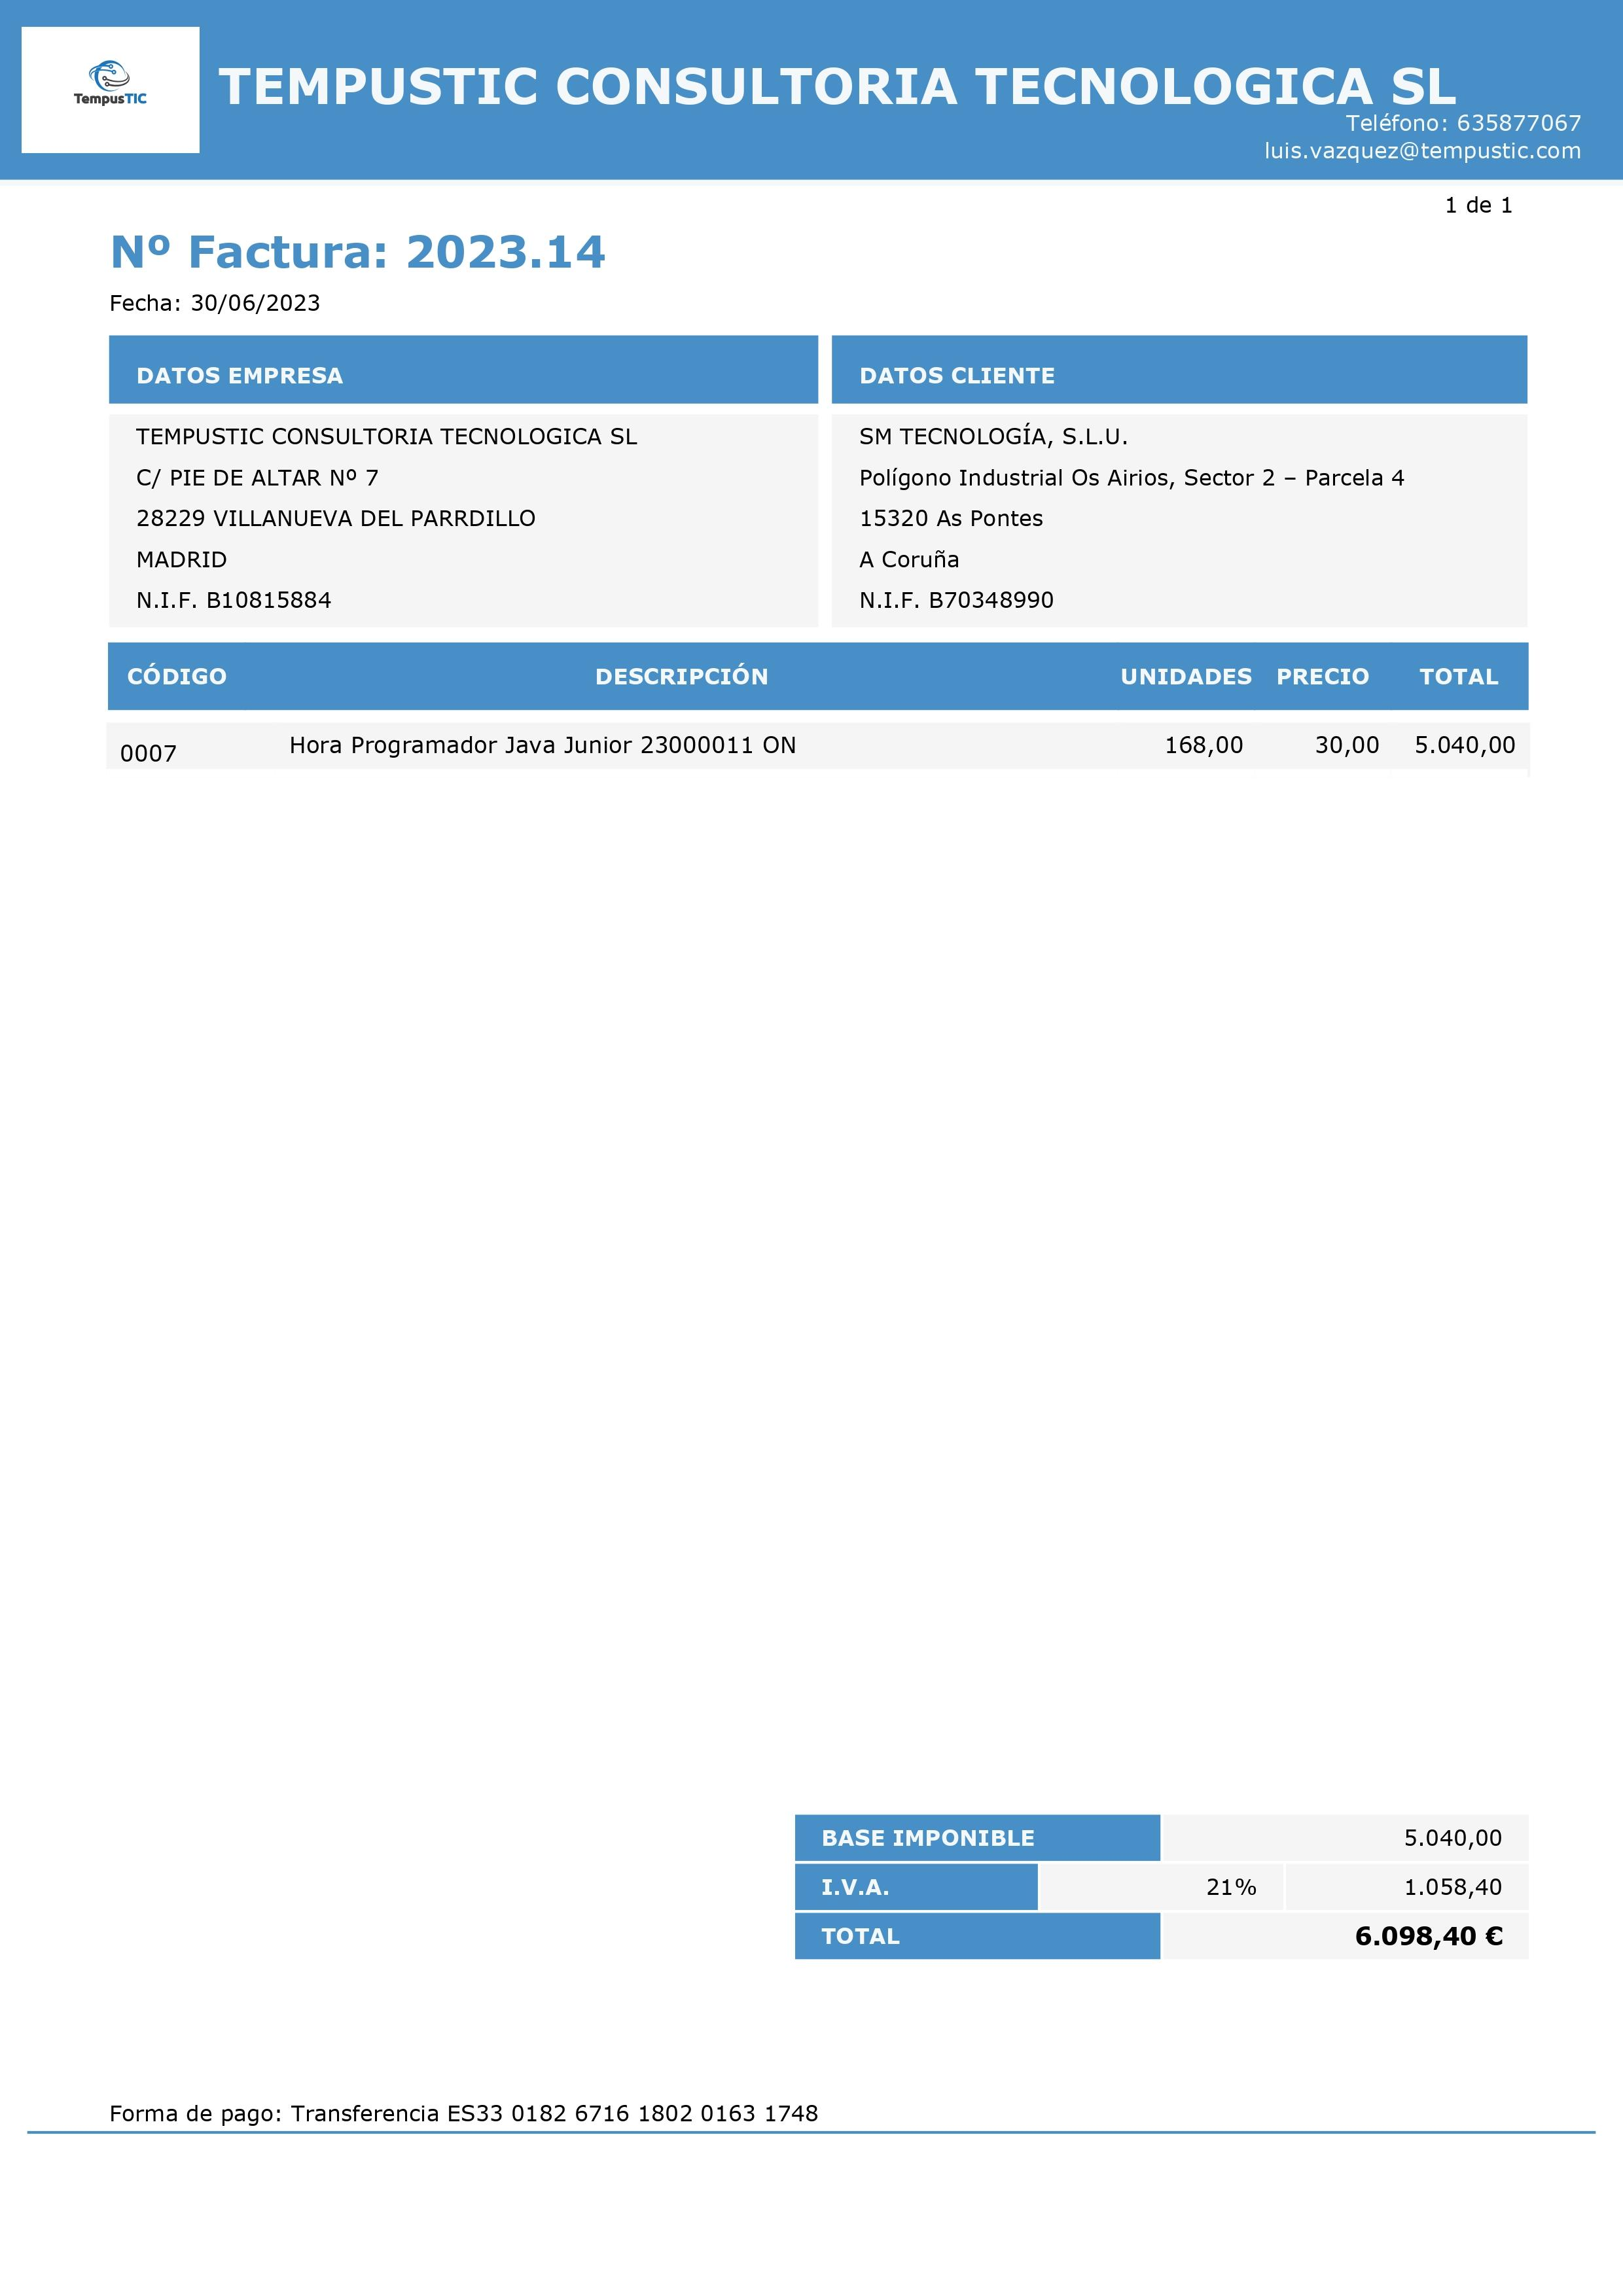ROI: (109, 335, 821, 626), (834, 333, 1528, 631), (109, 641, 1528, 781), (796, 1812, 1528, 1966), (213, 60, 1467, 108), (99, 217, 617, 323), (100, 2090, 825, 2128), (1260, 107, 1591, 167)
